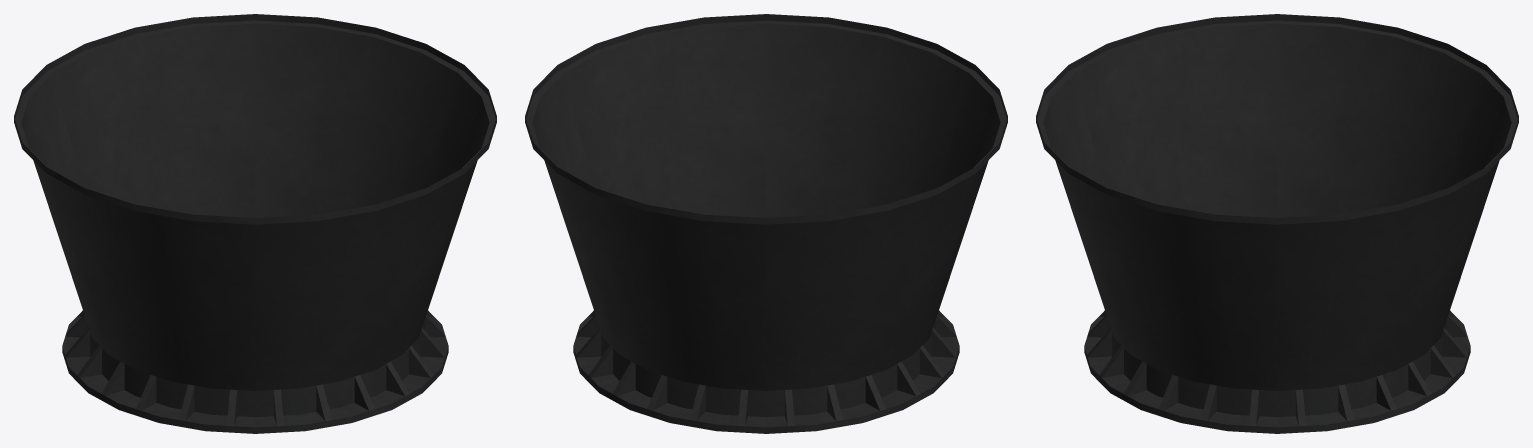
File: stage2mount.obj
3 renders of one model, left to right at view 1: azimuth 30°, elevation 25°; view 2: azimuth 150°, elevation 25°; view 3: azimuth 270°, elevation 25°, orthographic.
Visible parts, largest first — view 1: mesh; view 2: mesh; view 3: mesh.
Part boxes in pixels (x1,y1,x2,y2): mesh: (14, 14, 496, 433); mesh: (525, 14, 1007, 433); mesh: (1036, 14, 1518, 433).
Size of the model in its own units: 2.5 by 1.35 by 2.5.
